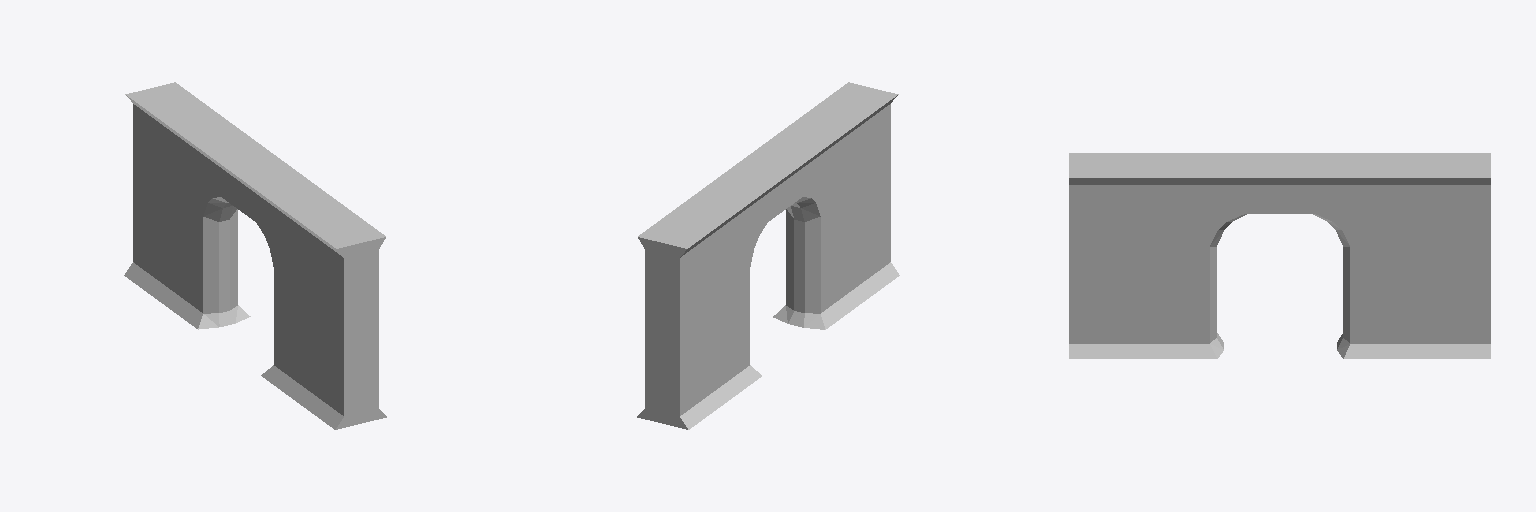
The model's file is bigDoor.obj.
3 views of the same model, side by side, from view 1: azimuth 30°, elevation 25°; view 2: azimuth 150°, elevation 25°; view 3: azimuth 270°, elevation 25° (orthographic).
Parts seen in each view (by area): view 1: Cube; view 2: Cube; view 3: Cube.
Part boxes in pixels (x1,y1,x2,y2): Cube: (124, 82, 386, 429); Cube: (637, 82, 899, 429); Cube: (1069, 153, 1490, 358).
Bounding box in the file's own units: 2 × 6.52 × 13.81.